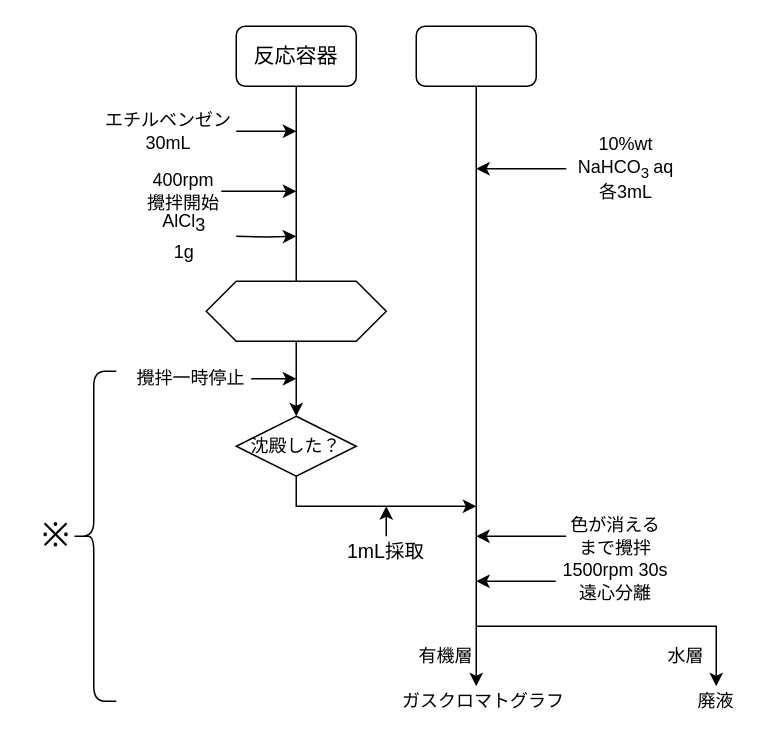
Some shapes in this 771 by 743 pixel diagram are drawn without their labels. Here are the shapes that lost their labels. From the top down, the centre of each, then its label:
At (475,55): "試験管×３".
At (295,310): "反応開始 t=0".
